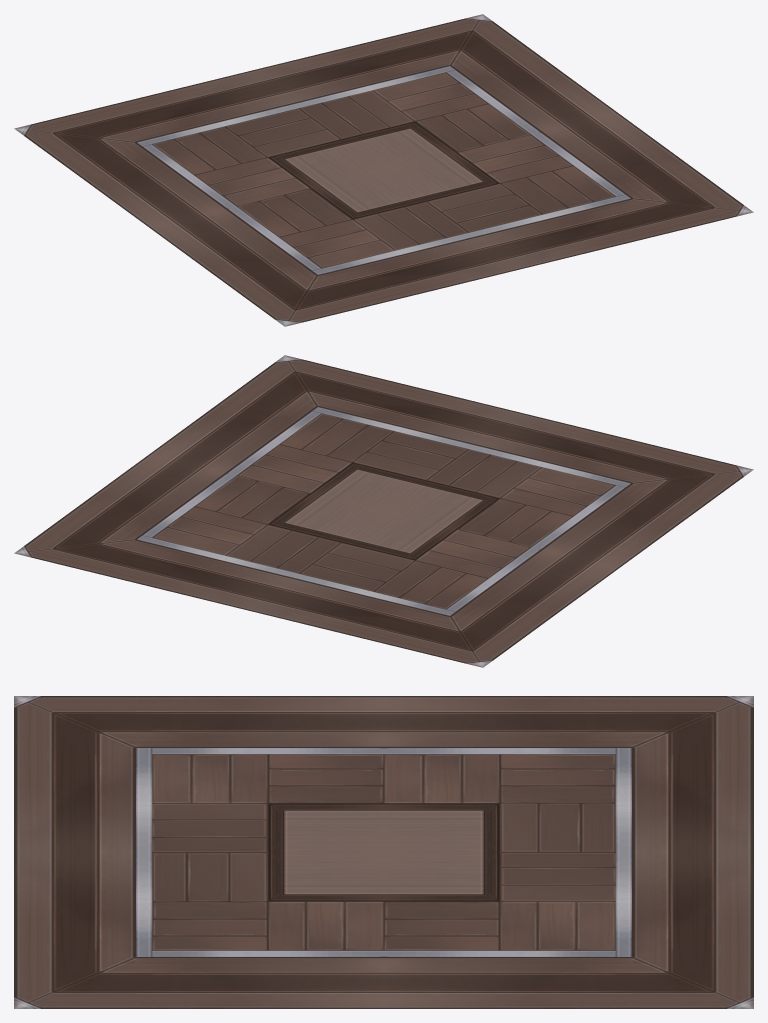
File: my_wildhunt_01_carpet_02.glb
3 renders of one model, top to bottom at view 1: azimuth 30°, elevation 25°; view 2: azimuth 150°, elevation 25°; view 3: azimuth 270°, elevation 25°, orthographic. The views are drawn at different scales.
Parts seen in each view (by area): view 1: my_wildhunt_01_carpet_02; view 2: my_wildhunt_01_carpet_02; view 3: my_wildhunt_01_carpet_02.
Boxes of the visible parts, x1=… form: my_wildhunt_01_carpet_02: x1=14, y1=14, x2=753, y2=326; my_wildhunt_01_carpet_02: x1=14, y1=355, x2=753, y2=667; my_wildhunt_01_carpet_02: x1=14, y1=696, x2=753, y2=1008.
Size of the model in its own units: 0.03 by 0 by 0.03.
Materials: 1 (1 with a texture image).
